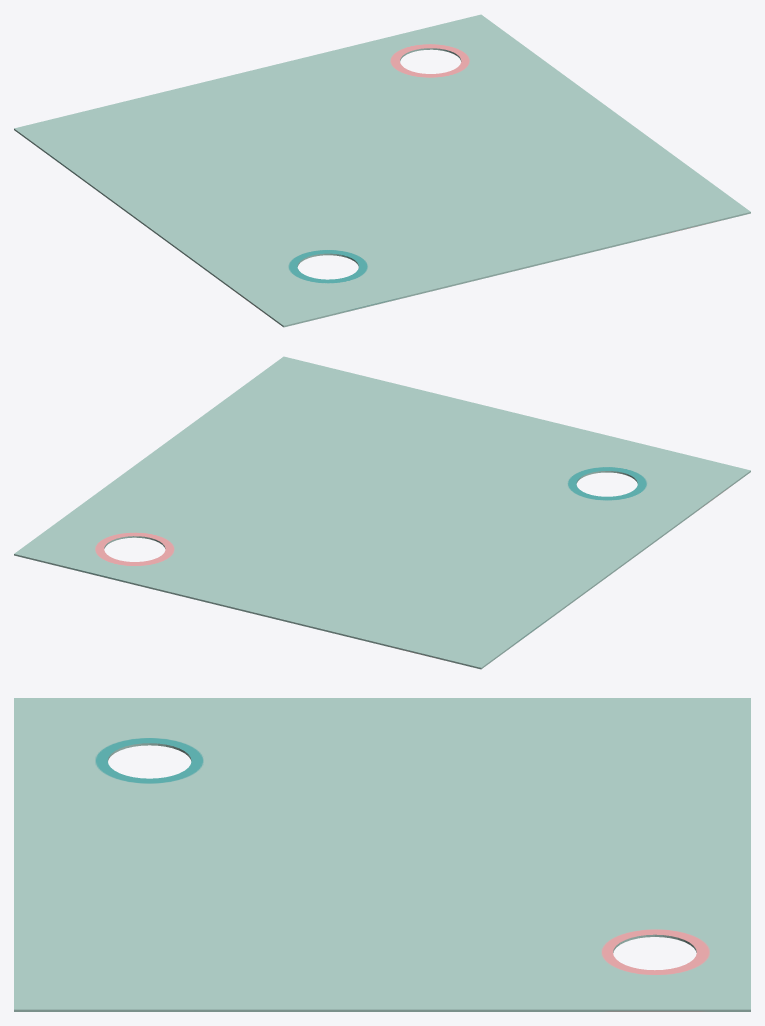
File: plane.level.1.glb
3 renders of one model, top to bottom at view 1: azimuth 30°, elevation 25°; view 2: azimuth 150°, elevation 25°; view 3: azimuth 270°, elevation 25°, orthographic. The views are drawn at different scales.
Visible parts, largest first — view 1: plane; view 2: plane; view 3: plane.
Boxes of the visible parts, <box> form: plane: <box>14,14,750,327</box>; plane: <box>14,356,750,669</box>; plane: <box>14,698,750,1011</box>.
Size of the model in its own units: 300 by 1 by 300.
1 material, 1 textured.
